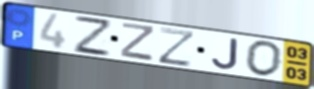4: (38, 11, 71, 51)
J: (210, 37, 241, 71)
O: (244, 39, 284, 78)
Z: (73, 13, 113, 58), (157, 26, 198, 69), (119, 21, 156, 63)
